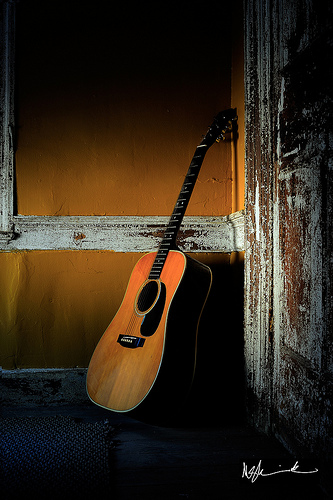guitar: (82, 106, 240, 417)
